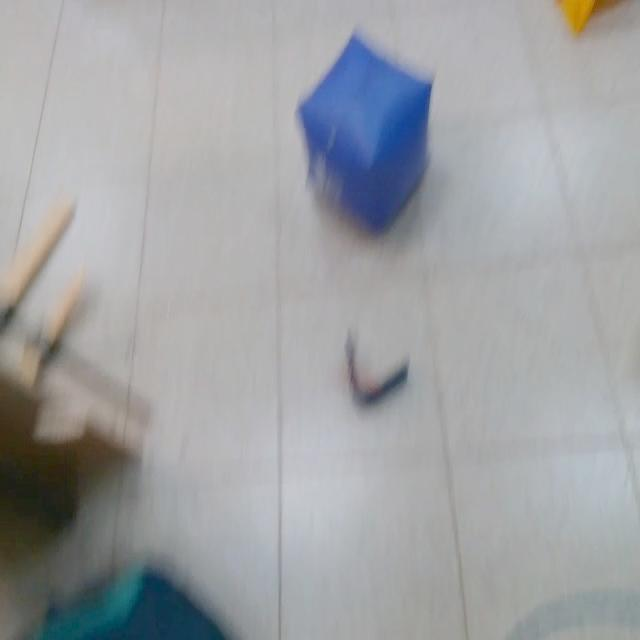cube: (298, 28, 434, 235)
